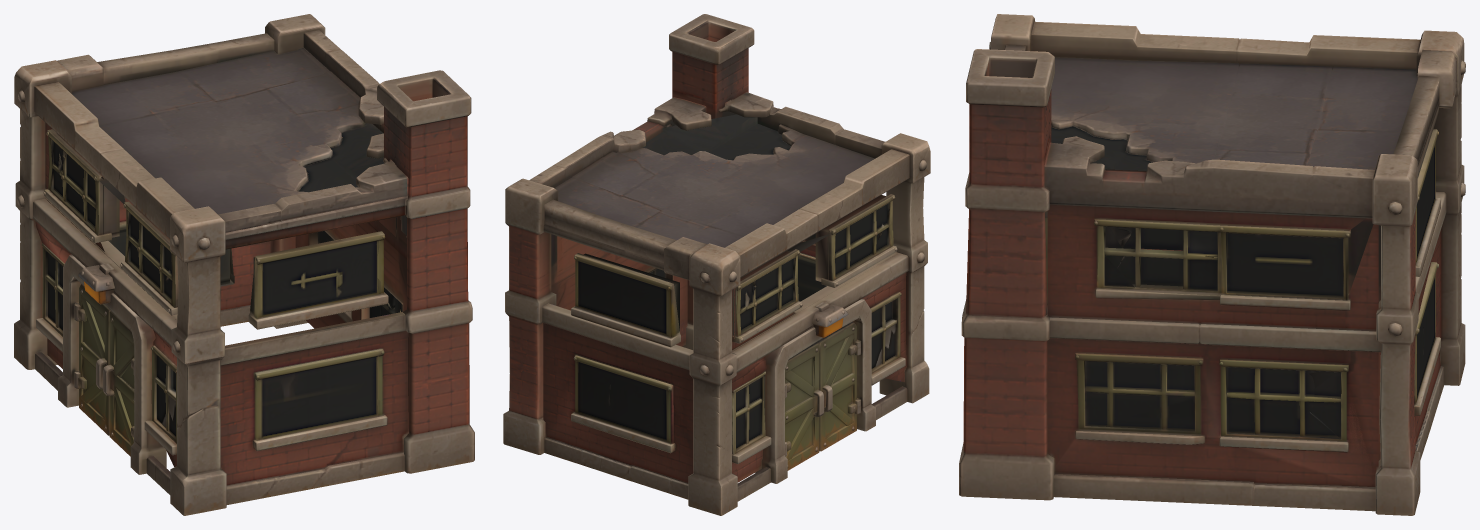
Rendered from brickbuilding.fbx.
3 renders of one model, left to right at view 1: azimuth 30°, elevation 25°; view 2: azimuth 150°, elevation 25°; view 3: azimuth 270°, elevation 25°, orthographic. The views are drawn at different scales.
Visible parts, largest first — view 1: tripo_6d6113d6_4352_453e_9b90_5442ea27f8f4; view 2: tripo_6d6113d6_4352_453e_9b90_5442ea27f8f4; view 3: tripo_6d6113d6_4352_453e_9b90_5442ea27f8f4.
Boxes of the visible parts, <box> form: tripo_6d6113d6_4352_453e_9b90_5442ea27f8f4: <box>14,14,474,515</box>; tripo_6d6113d6_4352_453e_9b90_5442ea27f8f4: <box>503,14,930,515</box>; tripo_6d6113d6_4352_453e_9b90_5442ea27f8f4: <box>959,14,1465,515</box>.
Size of the model in its own units: 1141 by 1260 by 1400.
